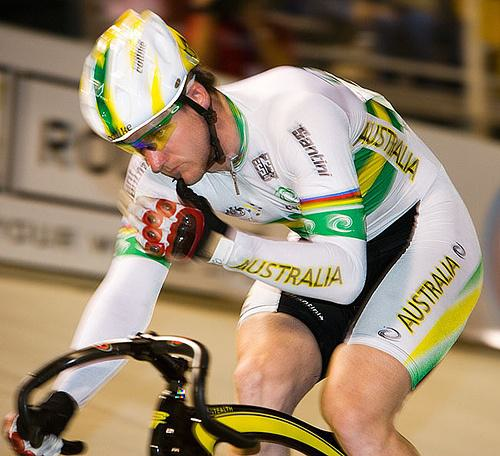car: (13, 333, 349, 456)
person: (11, 12, 485, 456)
